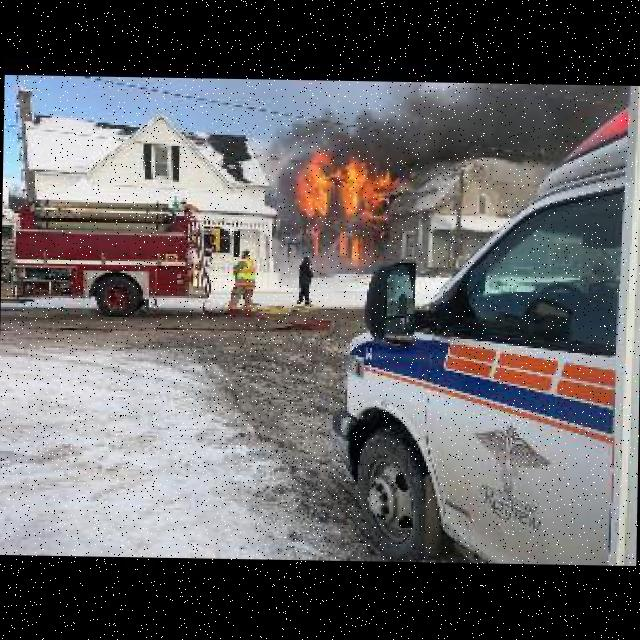fire: (261, 111, 624, 283)
